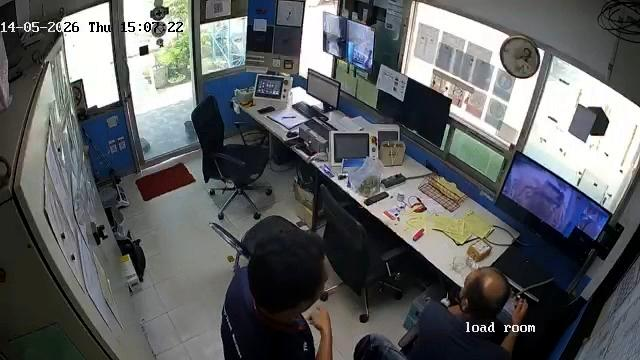Head: (249, 227, 327, 311), (459, 265, 511, 317)
People: (353, 266, 529, 360), (222, 225, 333, 360)
Phone: (257, 106, 276, 115)
